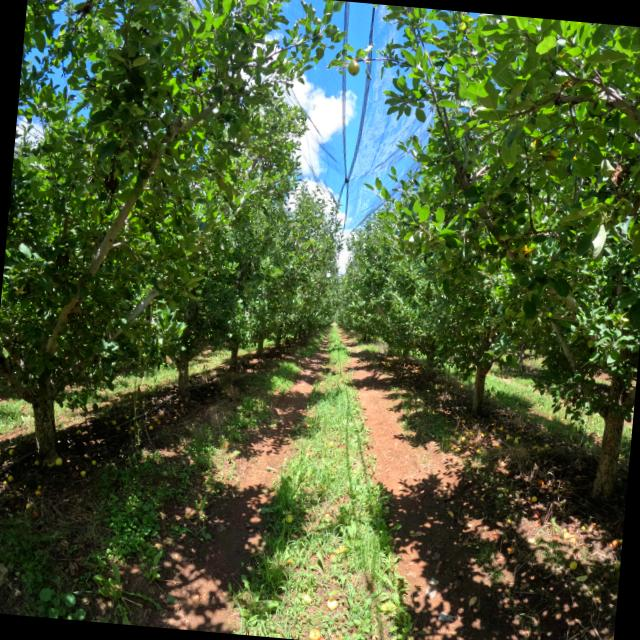-FireBlight-: (611, 158, 633, 187), (101, 169, 119, 192), (73, 0, 95, 16), (190, 64, 201, 81)
